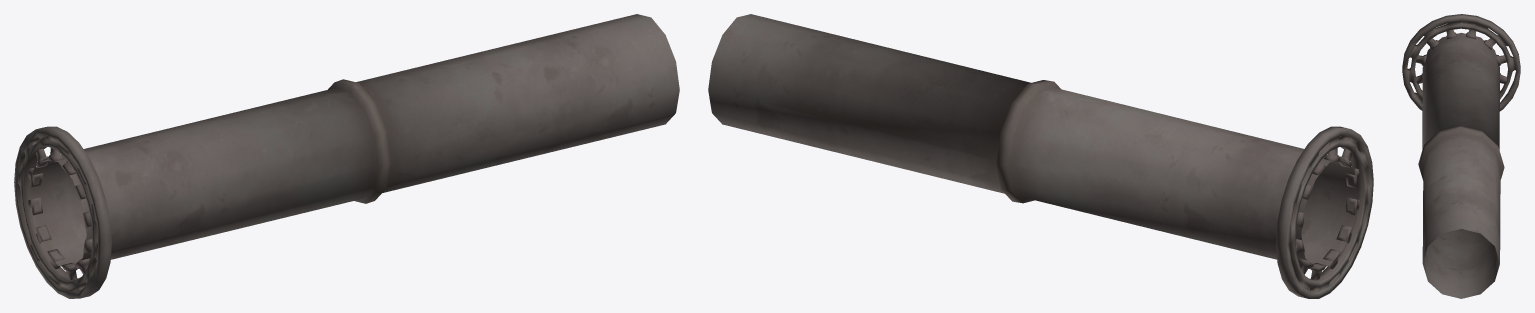
Rendered from CanoEnorme.fbx.
3 views of the same model, side by side, from view 1: azimuth 30°, elevation 25°; view 2: azimuth 150°, elevation 25°; view 3: azimuth 270°, elevation 25° (orthographic). The views are drawn at different scales.
Parts seen in each view (by area): view 1: CanoEnorme; view 2: CanoEnorme; view 3: CanoEnorme.
Part boxes in pixels (<box>): CanoEnorme: <box>14,14,679,298</box>; CanoEnorme: <box>708,14,1373,298</box>; CanoEnorme: <box>1402,14,1520,298</box>.
Bounding box in the file's own units: 1200 × 307 × 307.
